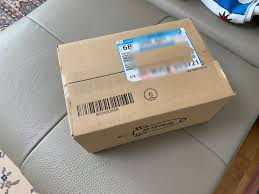undamaged: (55, 17, 236, 156)
